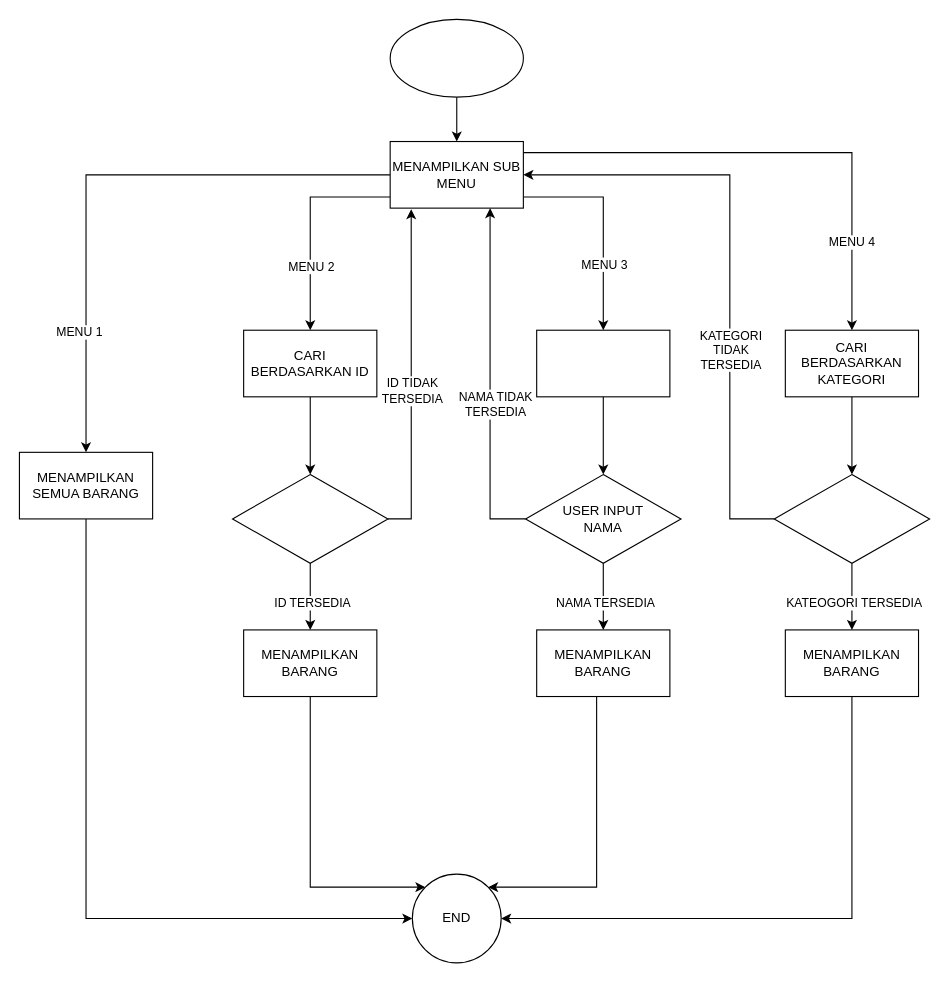
Some shapes in this 949 by 982 pixel diagram are drawn without their labels. Each missing label, with the box of its shape:
CARI BERDASARKAN NAMA: (536, 329, 670, 397)
START: (389, 18, 523, 97)
USER INPUT ID: (231, 473, 388, 563)
USER INPUT KATEGORI: (773, 473, 930, 563)
